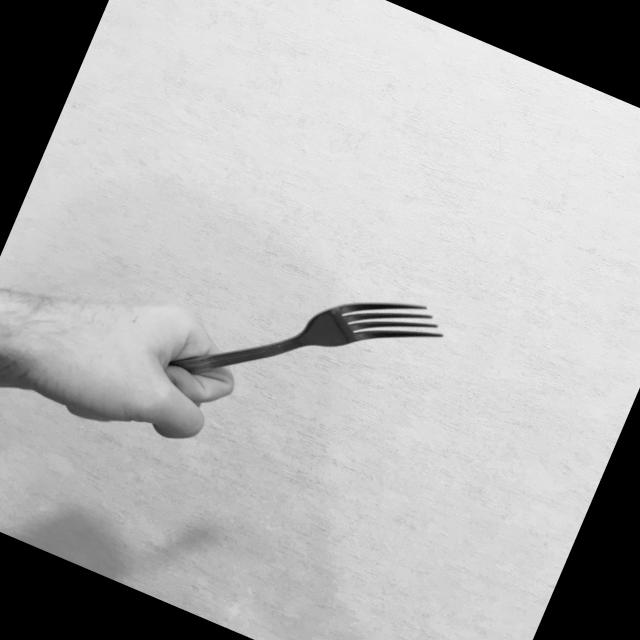fork: (144, 212, 458, 491)
